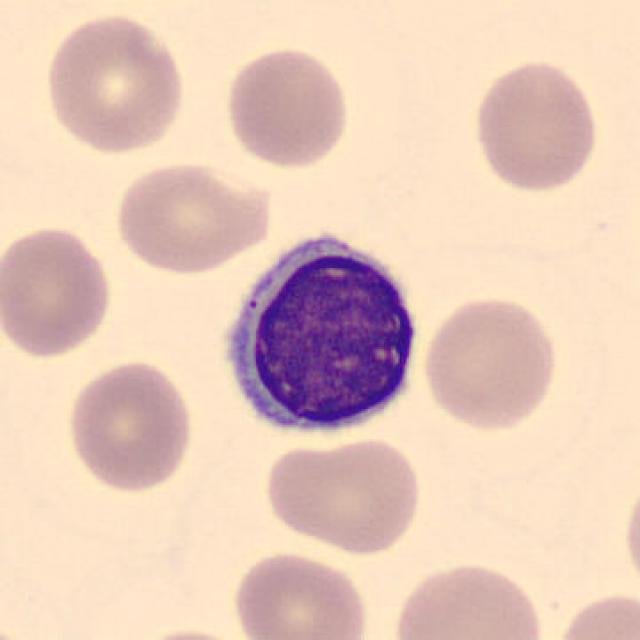Lymphocyte: (210, 220, 430, 446)
RBC: (39, 9, 189, 157), (418, 291, 562, 434), (259, 434, 425, 557), (110, 157, 276, 277), (62, 356, 198, 496), (468, 54, 602, 196), (220, 42, 354, 173), (0, 220, 117, 361), (388, 557, 550, 640), (228, 548, 374, 640), (548, 587, 638, 640), (618, 465, 640, 599)
